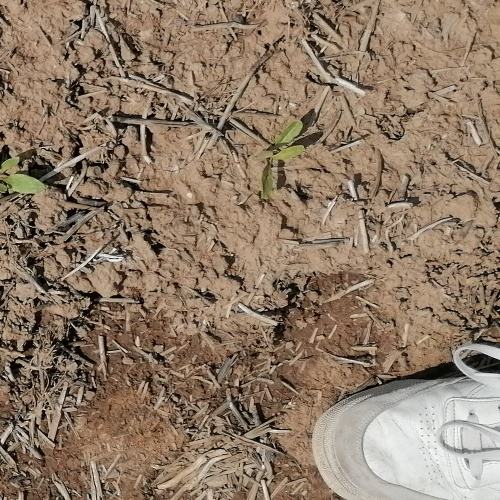beet: (261, 120, 305, 198), (0, 157, 48, 193)
